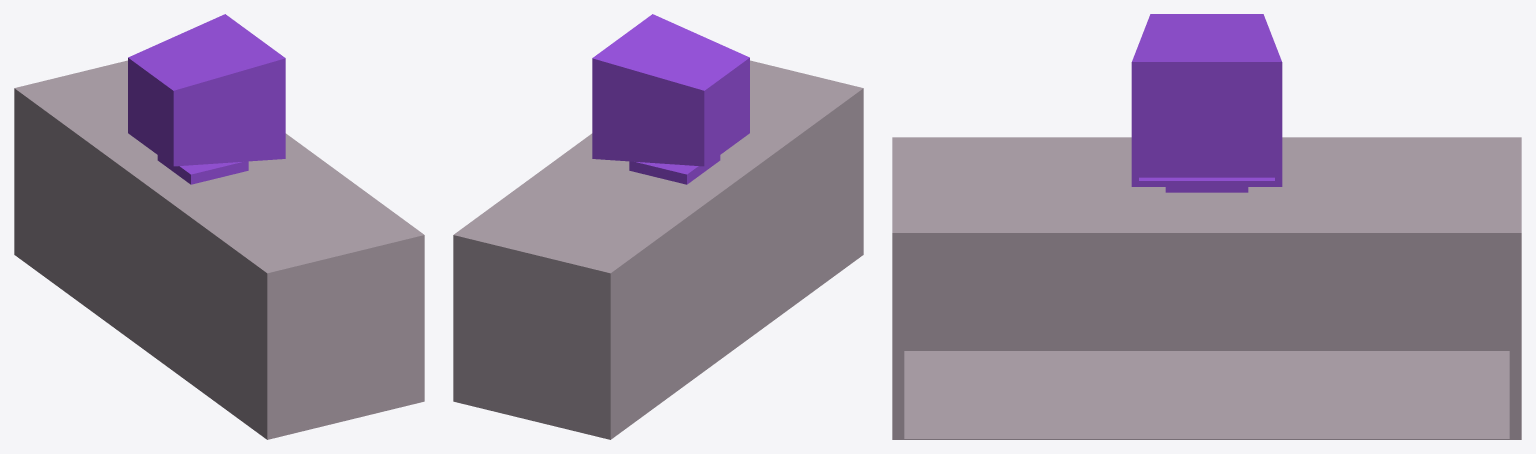
File: table.glb
The picture shows the model from 3 angles, left to right: view 1: azimuth 30°, elevation 25°; view 2: azimuth 150°, elevation 25°; view 3: azimuth 270°, elevation 25°; orthographic projection. The views are drawn at different scales.
Visible parts, largest first — view 1: table, computer; view 2: table, computer; view 3: table, computer.
Part boxes in pixels (x1,y1,x2,y2): table: [14, 60, 424, 439]; computer: [128, 14, 285, 184]; table: [453, 60, 863, 439]; computer: [592, 14, 749, 184]; table: [892, 137, 1521, 439]; computer: [1131, 14, 1282, 192].
Size of what is drawn, in the model's own units: 2 by 3.44 by 5.57.
